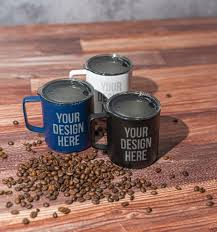mug: (74, 92, 181, 176), (11, 74, 99, 156), (62, 47, 138, 117)
